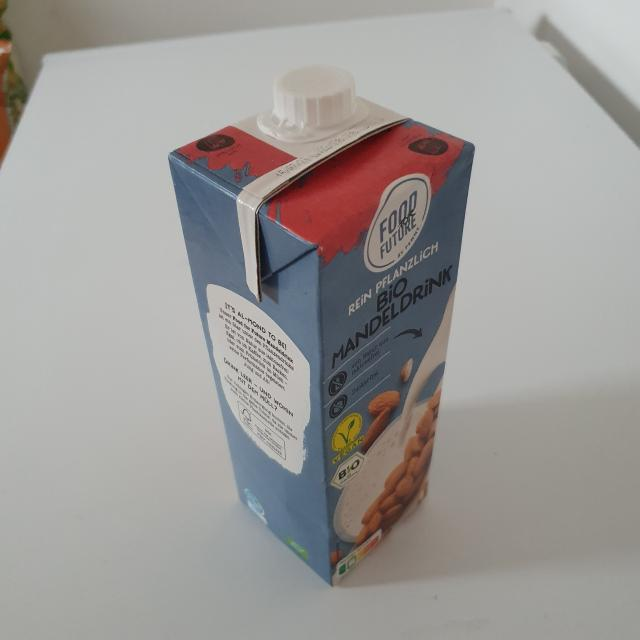PaperCardboard: (173, 57, 482, 586)
